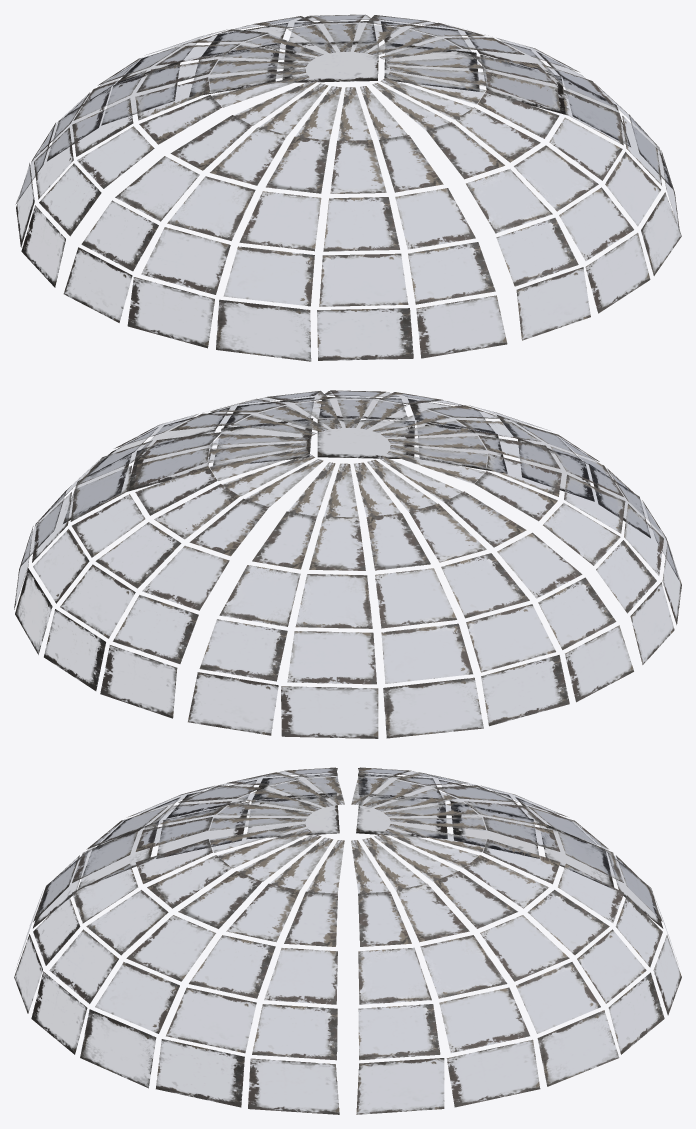
The picture shows the model from 3 angles, top to bottom: view 1: azimuth 30°, elevation 25°; view 2: azimuth 150°, elevation 25°; view 3: azimuth 270°, elevation 25°; orthographic projection.
Parts seen in each view (by area): view 1: ind_steelglas_roof_corner_01_inst_001_ind_glass_01_mt_0.003, ind_steelglas_roof_corner_01_inst_001_ind_glass_01_mt_0.002, ind_steelglas_roof_corner_01_inst_001, ind_steelglas_roof_corner_01_inst_001_ind_glass_01_mt_0.001; view 2: ind_steelglas_roof_corner_01_inst_001, ind_steelglas_roof_corner_01_inst_001_ind_glass_01_mt_0.001, ind_steelglas_roof_corner_01_inst_001_ind_glass_01_mt_0.003, ind_steelglas_roof_corner_01_inst_001_ind_glass_01_mt_0.002; view 3: ind_steelglas_roof_corner_01_inst_001_ind_glass_01_mt_0.002, ind_steelglas_roof_corner_01_inst_001_ind_glass_01_mt_0.001, ind_steelglas_roof_corner_01_inst_001_ind_glass_01_mt_0.003, ind_steelglas_roof_corner_01_inst_001.
Boxes of the visible parts, x1,y1,x2,y2 form: ind_steelglas_roof_corner_01_inst_001_ind_glass_01_mt_0.003: (63,80,507,361); ind_steelglas_roof_corner_01_inst_001_ind_glass_01_mt_0.002: (372,56,681,340); ind_steelglas_roof_corner_01_inst_001: (15,29,323,287); ind_steelglas_roof_corner_01_inst_001_ind_glass_01_mt_0.001: (189,14,630,146); ind_steelglas_roof_corner_01_inst_001: (188,456,633,738); ind_steelglas_roof_corner_01_inst_001_ind_glass_01_mt_0.001: (14,432,323,718); ind_steelglas_roof_corner_01_inst_001_ind_glass_01_mt_0.003: (373,405,681,664); ind_steelglas_roof_corner_01_inst_001_ind_glass_01_mt_0.002: (63,390,507,523); ind_steelglas_roof_corner_01_inst_001_ind_glass_01_mt_0.002: (14,824,344,1114); ind_steelglas_roof_corner_01_inst_001_ind_glass_01_mt_0.001: (351,824,681,1114); ind_steelglas_roof_corner_01_inst_001_ind_glass_01_mt_0.003: (17,767,344,964); ind_steelglas_roof_corner_01_inst_001: (351,767,669,938).
Size of the model in its own units: 12.08 by 3.02 by 12.08.
1 material, 1 textured.
